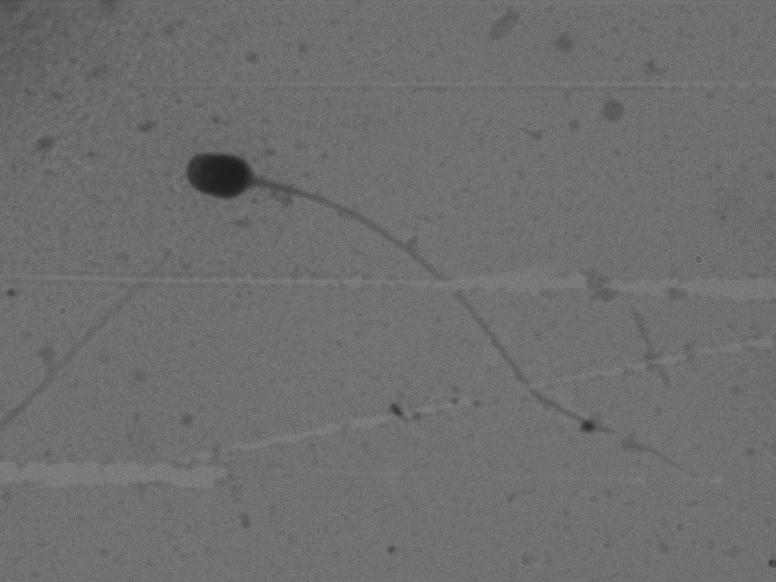Normal: (135, 114, 713, 527)
